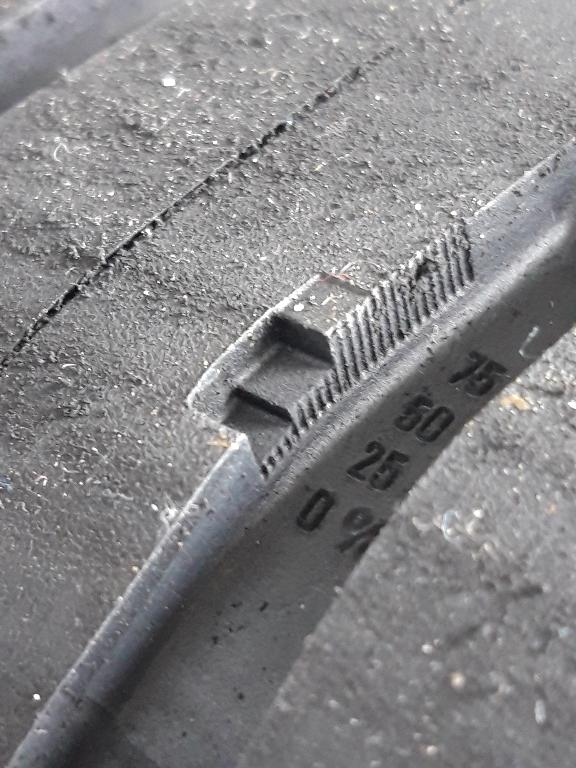temoin:50: (168, 245, 400, 495)
